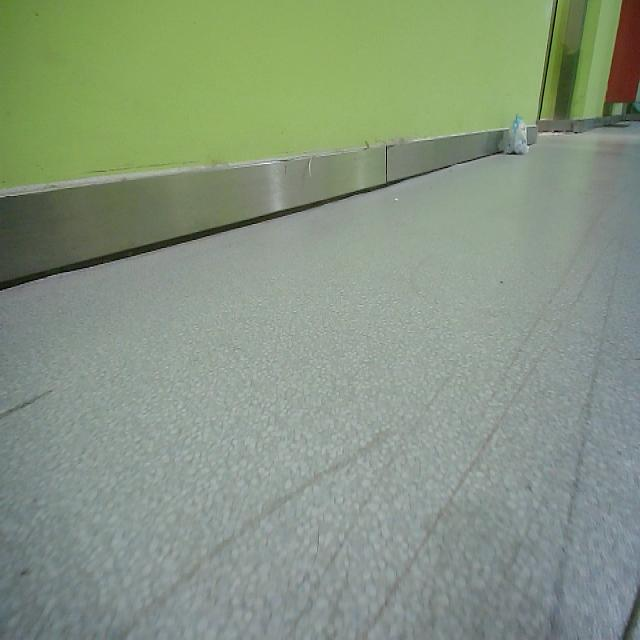xiaoba: (510, 114, 530, 154)
